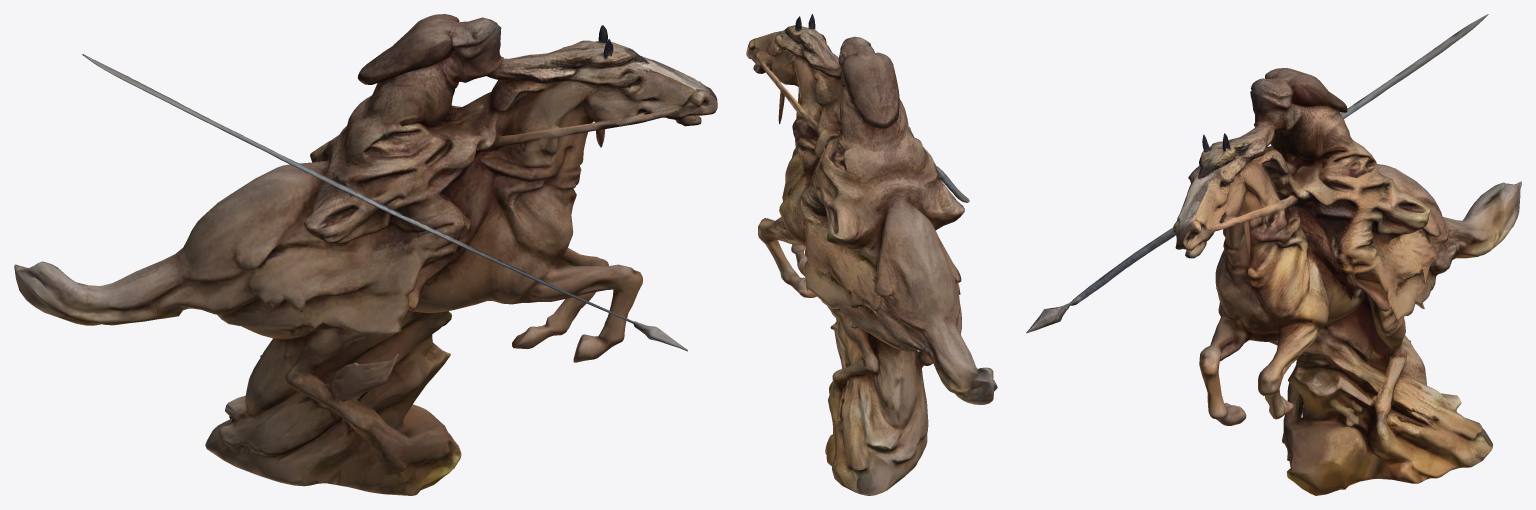
Rendered from bioguera.glb.
The picture shows the model from 3 angles, left to right: view 1: azimuth 30°, elevation 25°; view 2: azimuth 150°, elevation 25°; view 3: azimuth 270°, elevation 25°; orthographic projection. The views are drawn at different scales.
Parts seen in each view (by area): view 1: tripo_node_9cfdde58-fb9a-4566-9120-033aa4882578; view 2: tripo_node_9cfdde58-fb9a-4566-9120-033aa4882578; view 3: tripo_node_9cfdde58-fb9a-4566-9120-033aa4882578.
Part boxes in pixels (x1,y1,x2,y2): tripo_node_9cfdde58-fb9a-4566-9120-033aa4882578: [14, 14, 717, 495]; tripo_node_9cfdde58-fb9a-4566-9120-033aa4882578: [746, 14, 997, 495]; tripo_node_9cfdde58-fb9a-4566-9120-033aa4882578: [1026, 14, 1521, 495].
Size of the model in its own units: 0.9995 by 0.8916 by 0.9402.
Materials: 1 (1 with a texture image).
